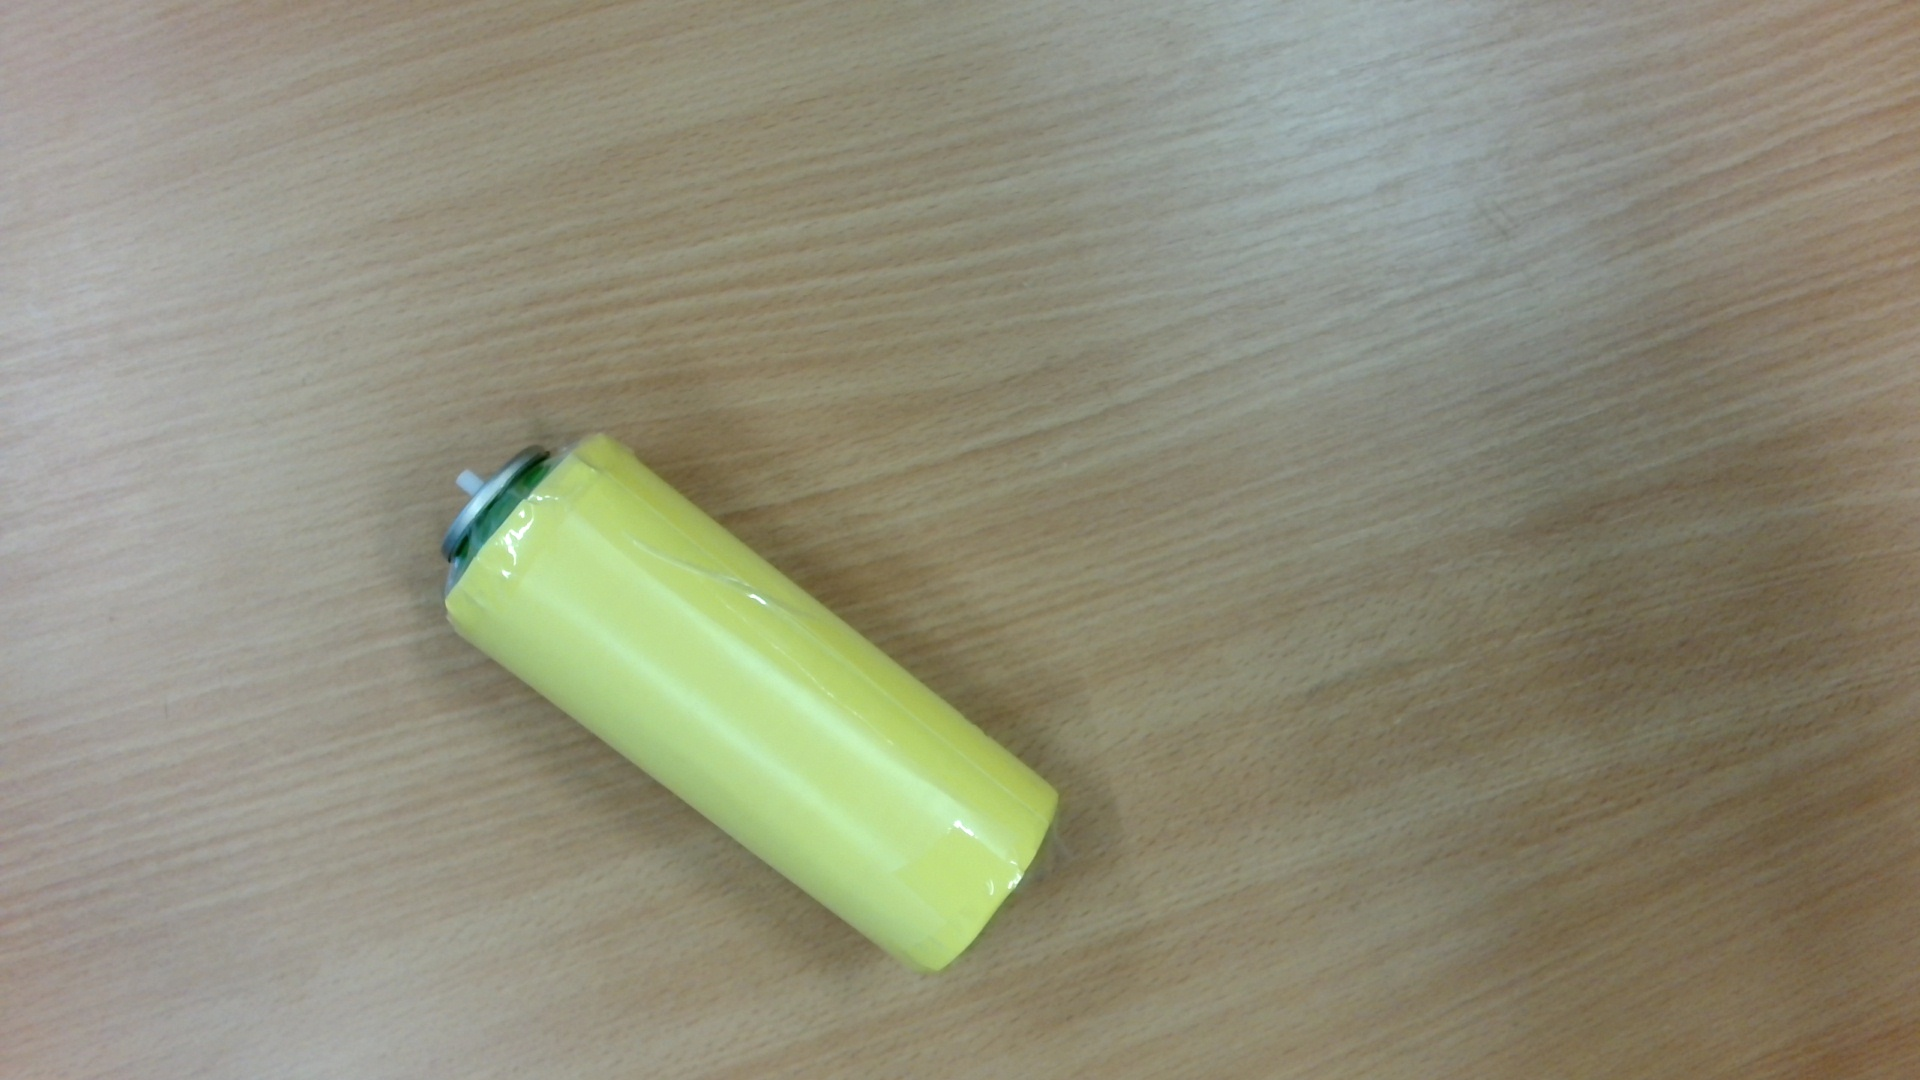Cylinder: (421, 413, 1083, 993)
